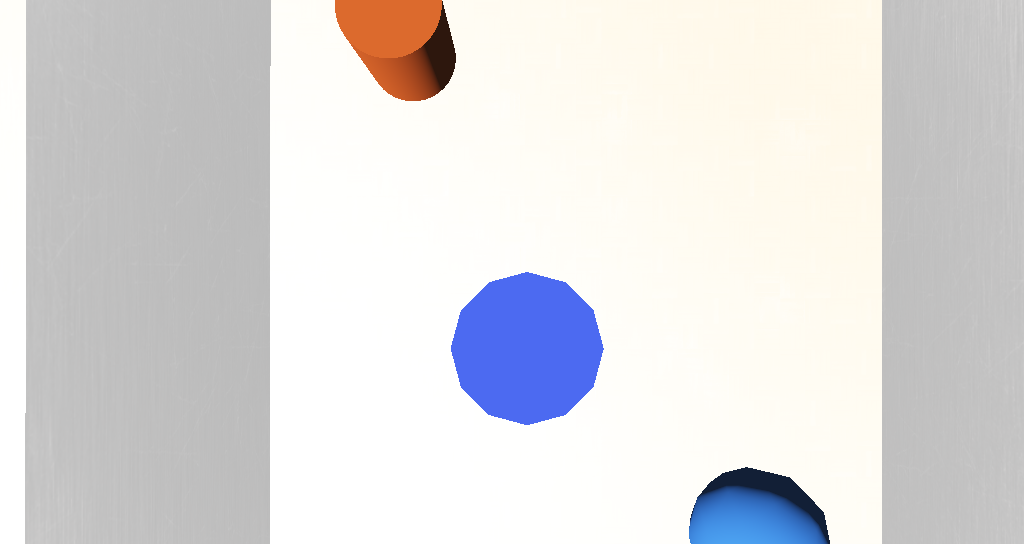cone: (391, 169, 445, 212)
cylinder: (448, 267, 509, 315)
sphere: (552, 336, 620, 379)
